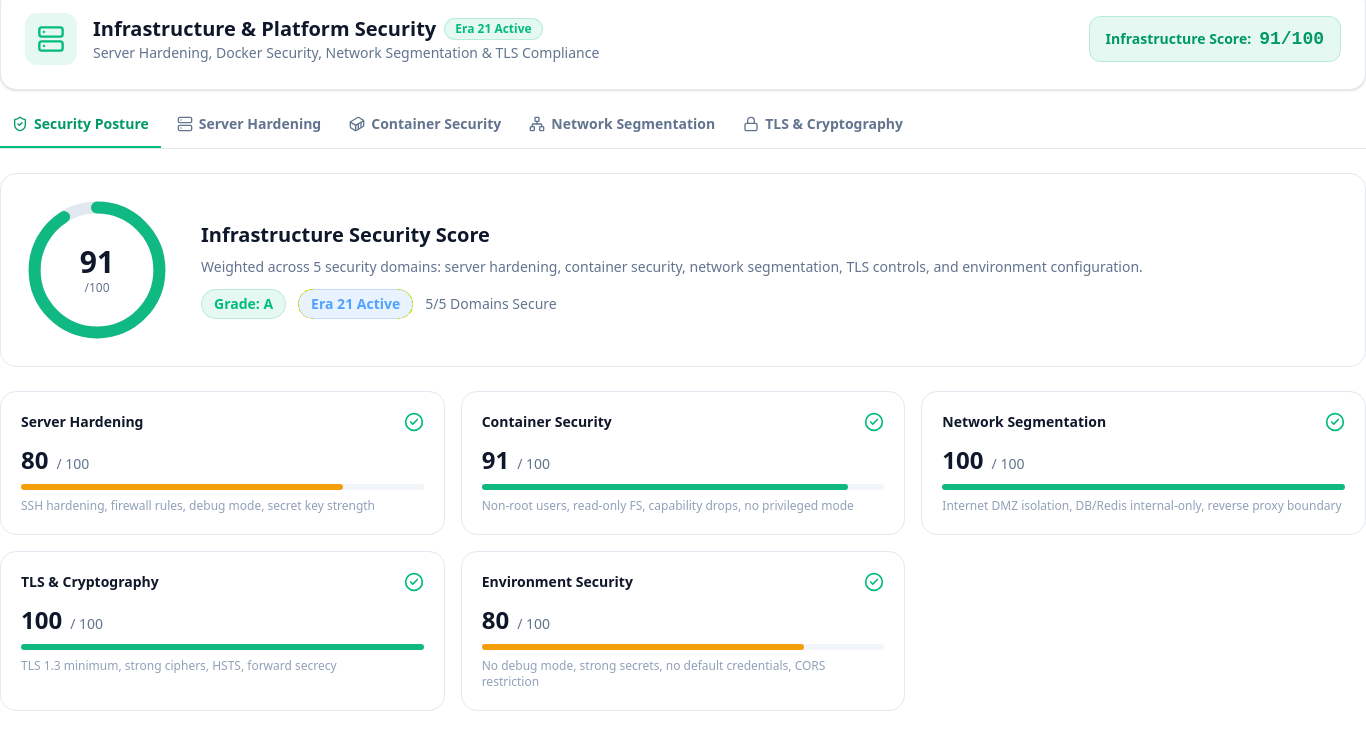
Scenario: InfrastructureSecurityDashboard › clicking Network Segmentation tab shows network zones
Click the button "Network Segmentation". click: point(622, 131)
box: [517,114,727,148]
(page scrolled)
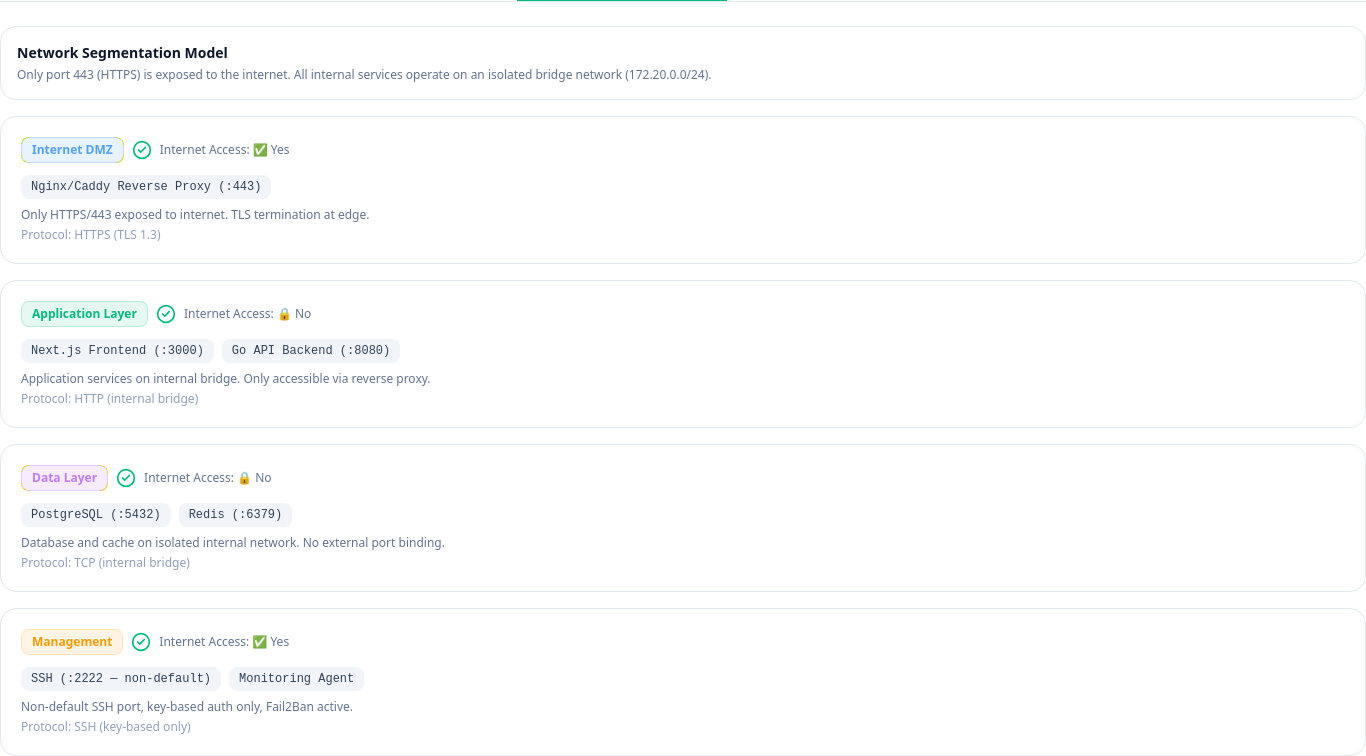
Check: the text "Application Layer" is shown, box [21,301,148,327]
Check: the text "Data Layer" is shown, box [21,465,108,491]
Check: the text "Management" is shown, box [21,629,123,655]
